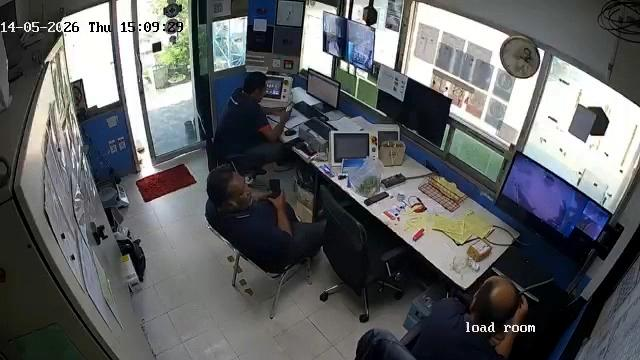Head: (469, 276, 519, 328), (208, 164, 252, 209), (246, 73, 269, 101)
People: (206, 164, 324, 268), (418, 274, 529, 360), (219, 73, 289, 164)
Phone: (268, 179, 281, 198), (283, 102, 295, 112)
